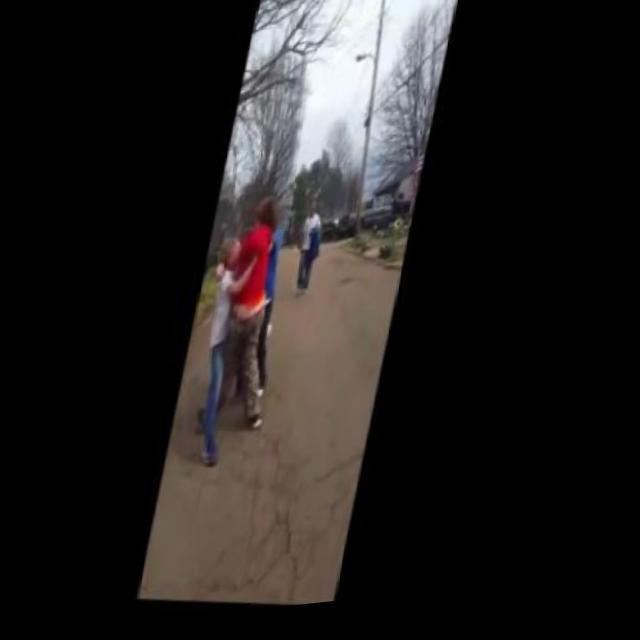fight: (192, 202, 295, 472)
